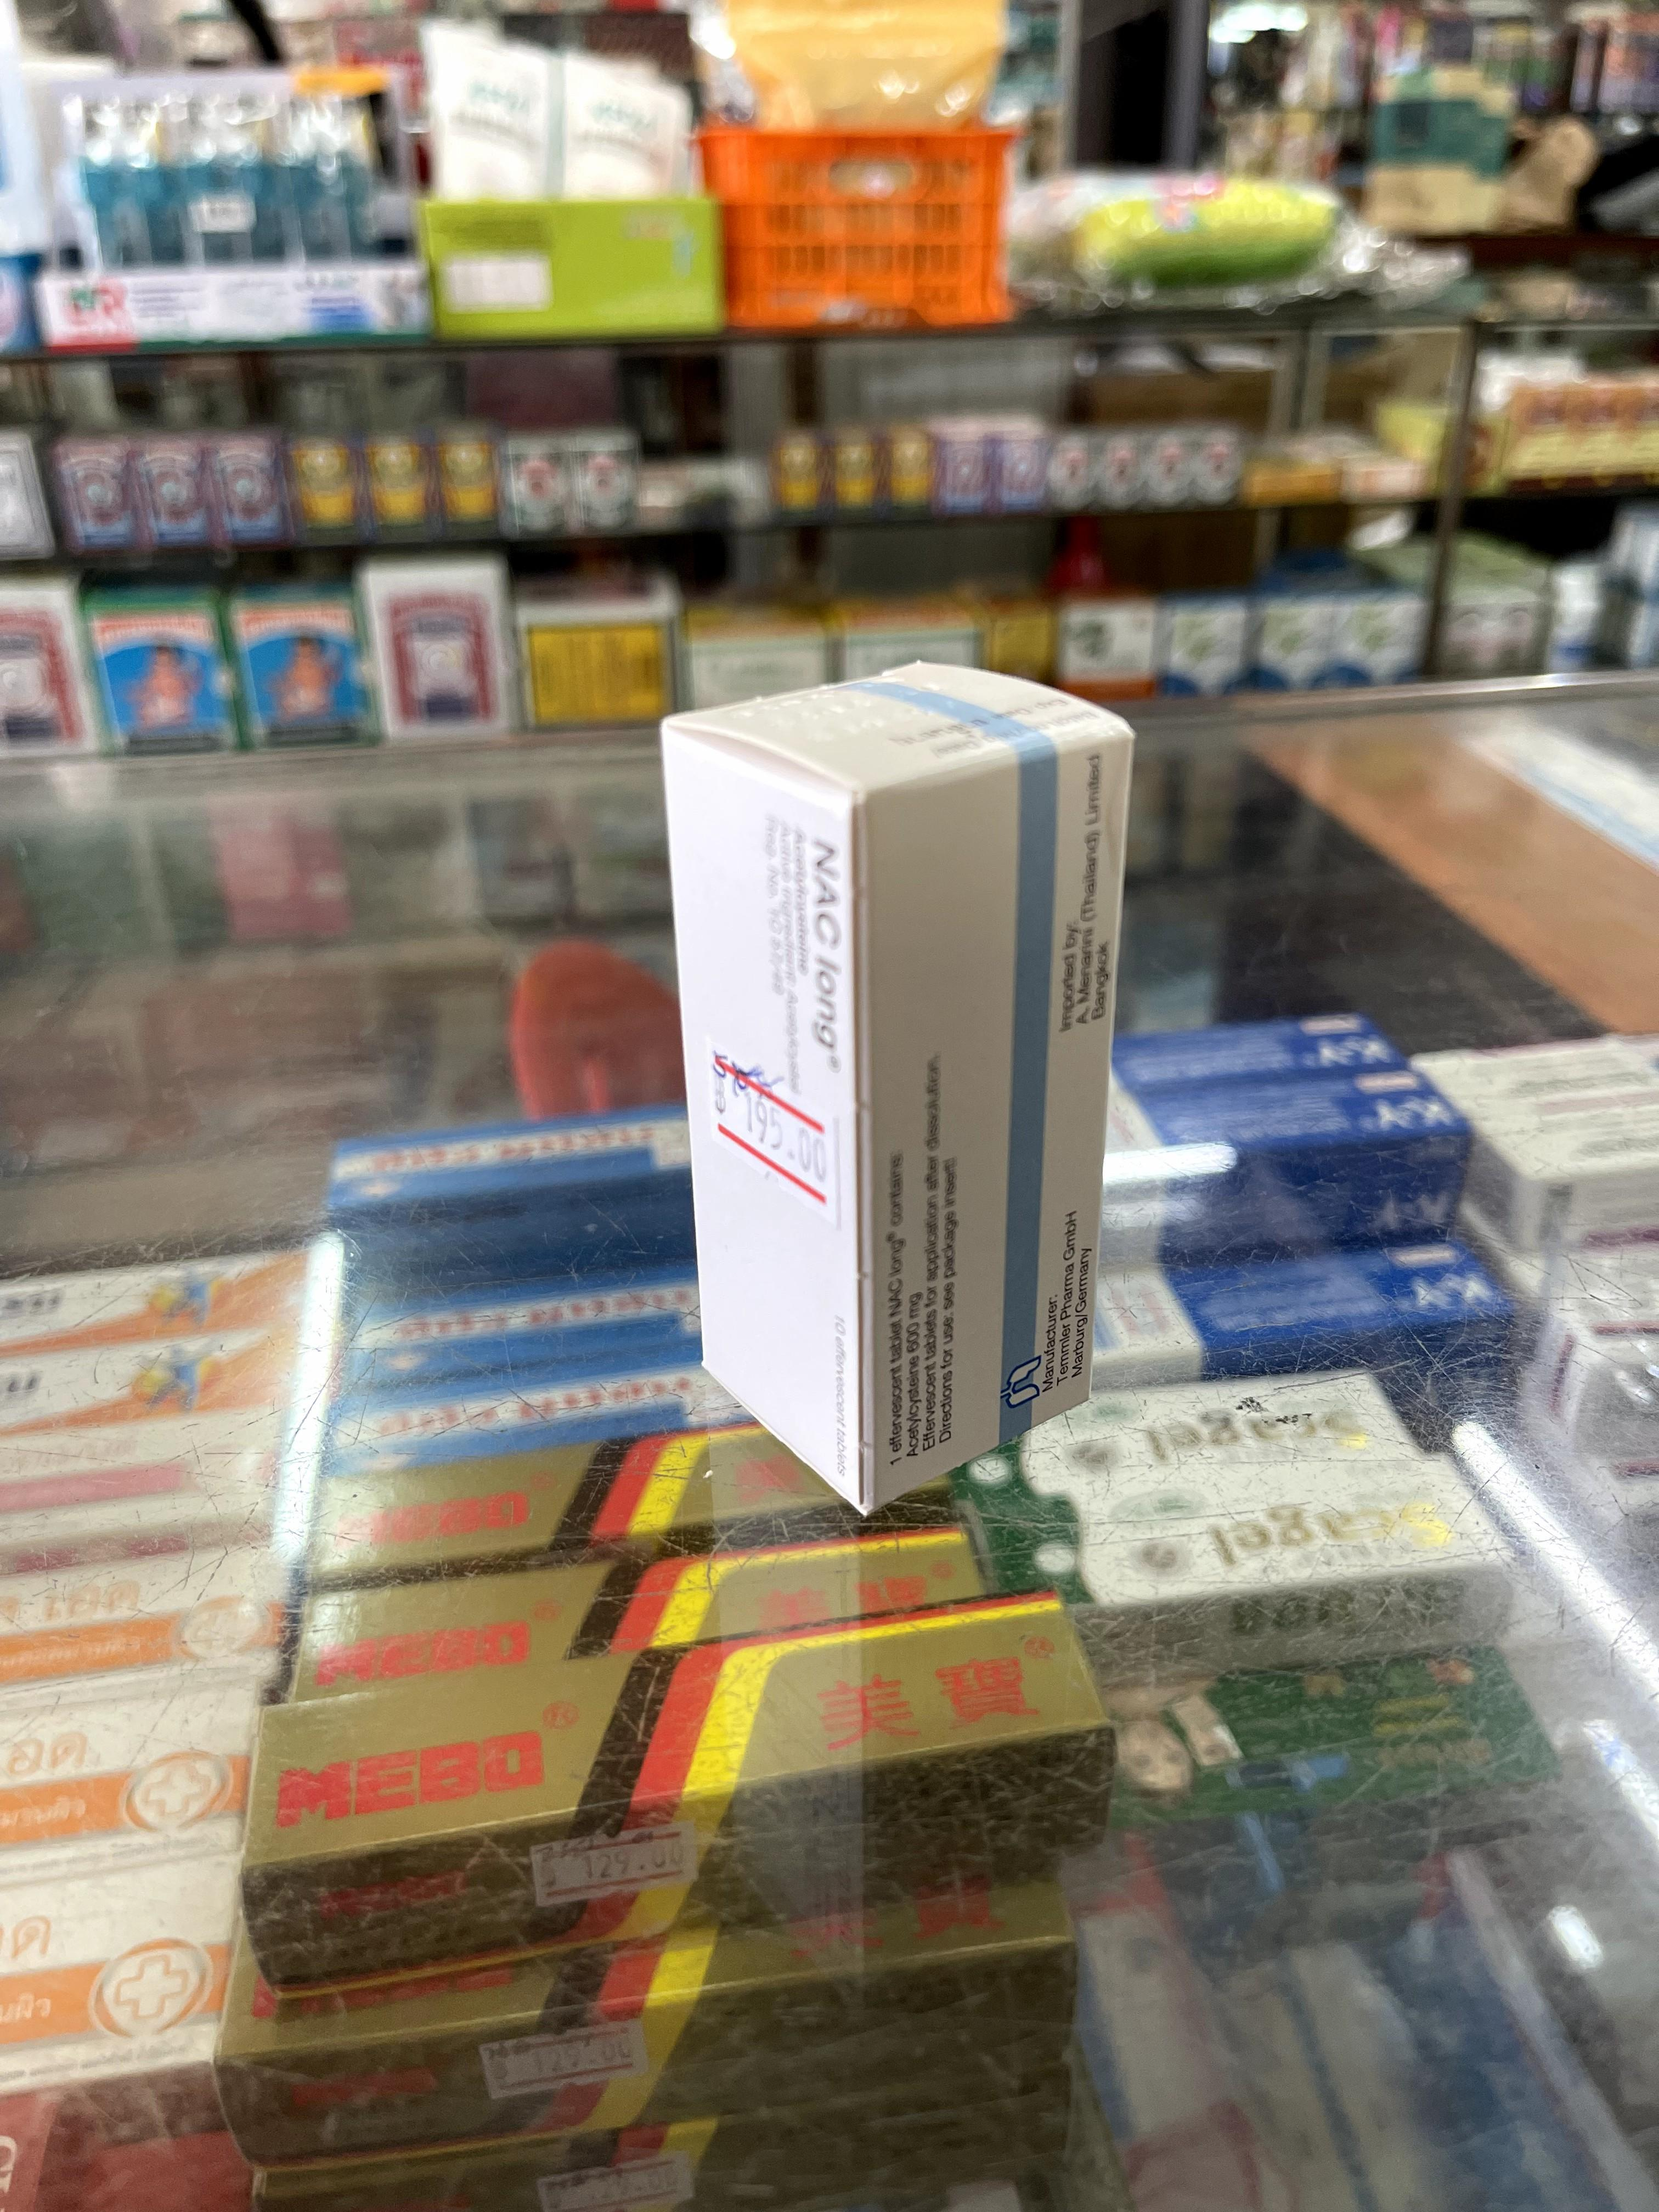Nac-Long: (666, 672, 1141, 1503)
